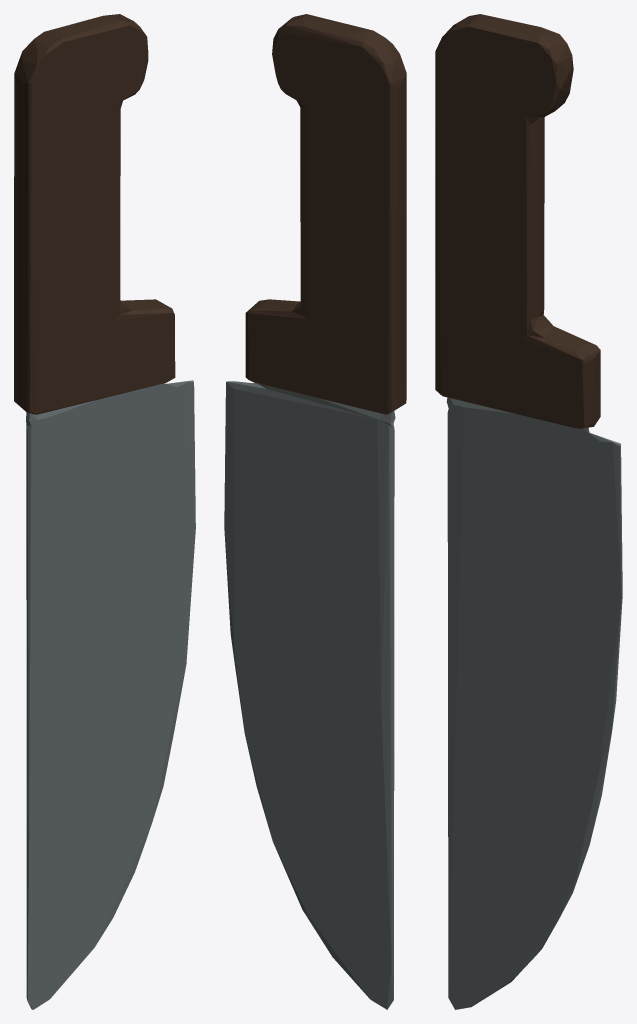
File: Knife11.fbx
The picture shows the model from 3 angles, left to right: view 1: azimuth 30°, elevation 25°; view 2: azimuth 150°, elevation 25°; view 3: azimuth 330°, elevation 25°; orthographic projection. The views are drawn at different scales.
Visible parts, largest first — view 1: Knife11LowPoly; view 2: Knife11LowPoly; view 3: Knife11LowPoly.
Part boxes in pixels (left/top/right/bottom): Knife11LowPoly: left=14, top=14, right=195, bottom=1009; Knife11LowPoly: left=224, top=14, right=406, bottom=1009; Knife11LowPoly: left=435, top=14, right=622, bottom=1009.
Size of the model in its own units: 5.26 by 27.75 by 0.8723.
